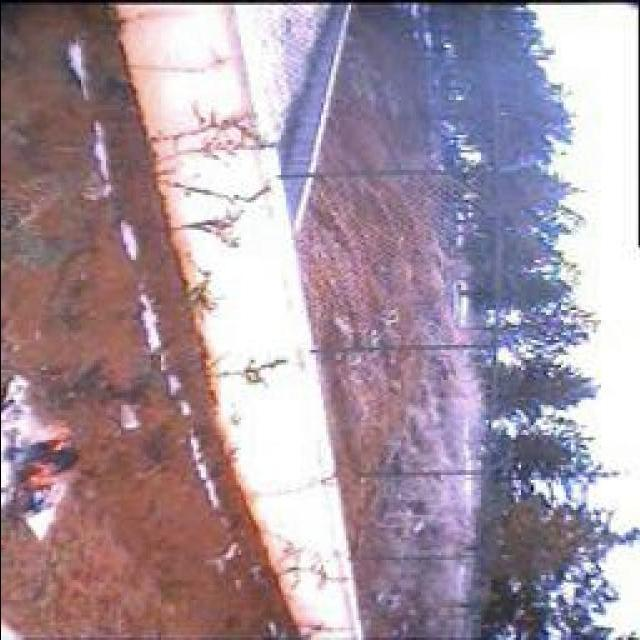Fire: (0, 420, 77, 514)
